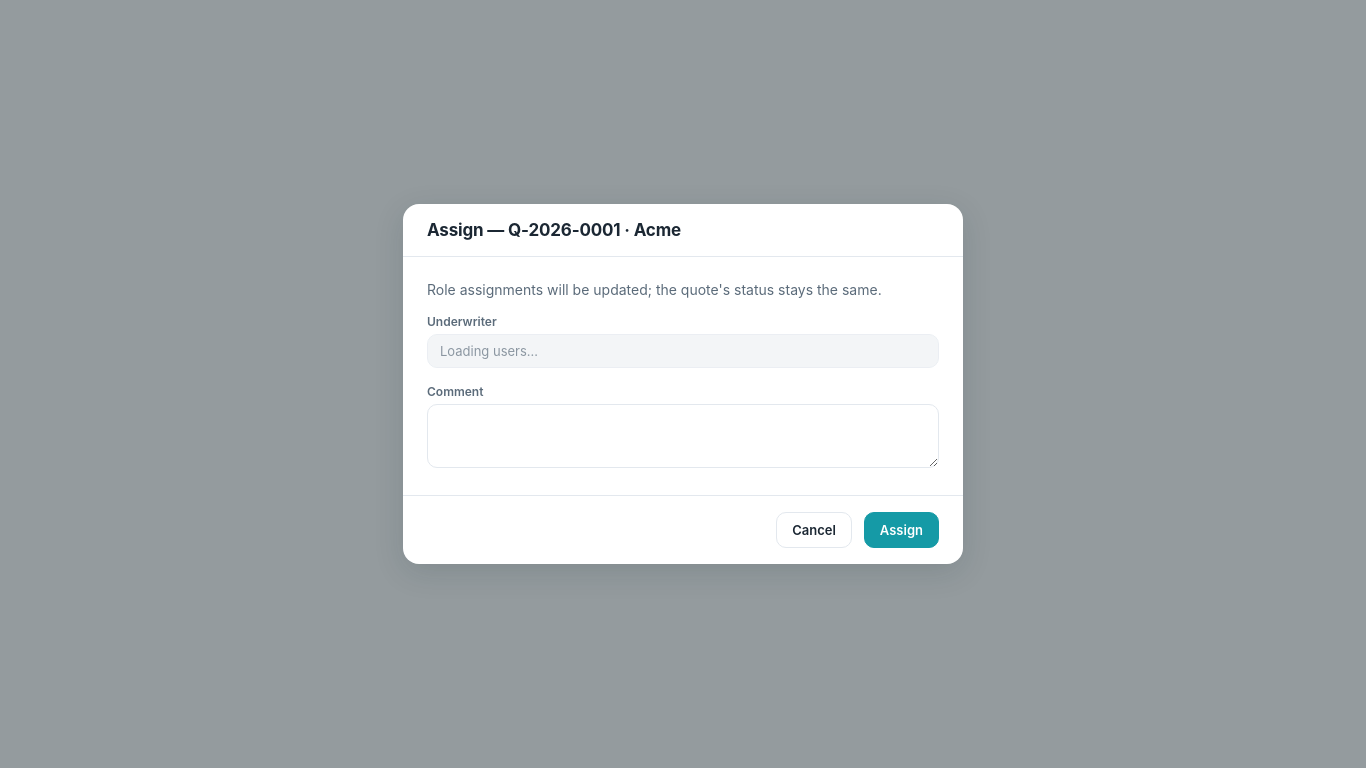
QuoteAssignDialog › click_WhenConfirmedWithoutAnySelection_ShouldShowInlineErrorAndNotConfirm
Click the button with test id "dialog-primary-button" at coordinates (901, 530), box [864,512,939,548]
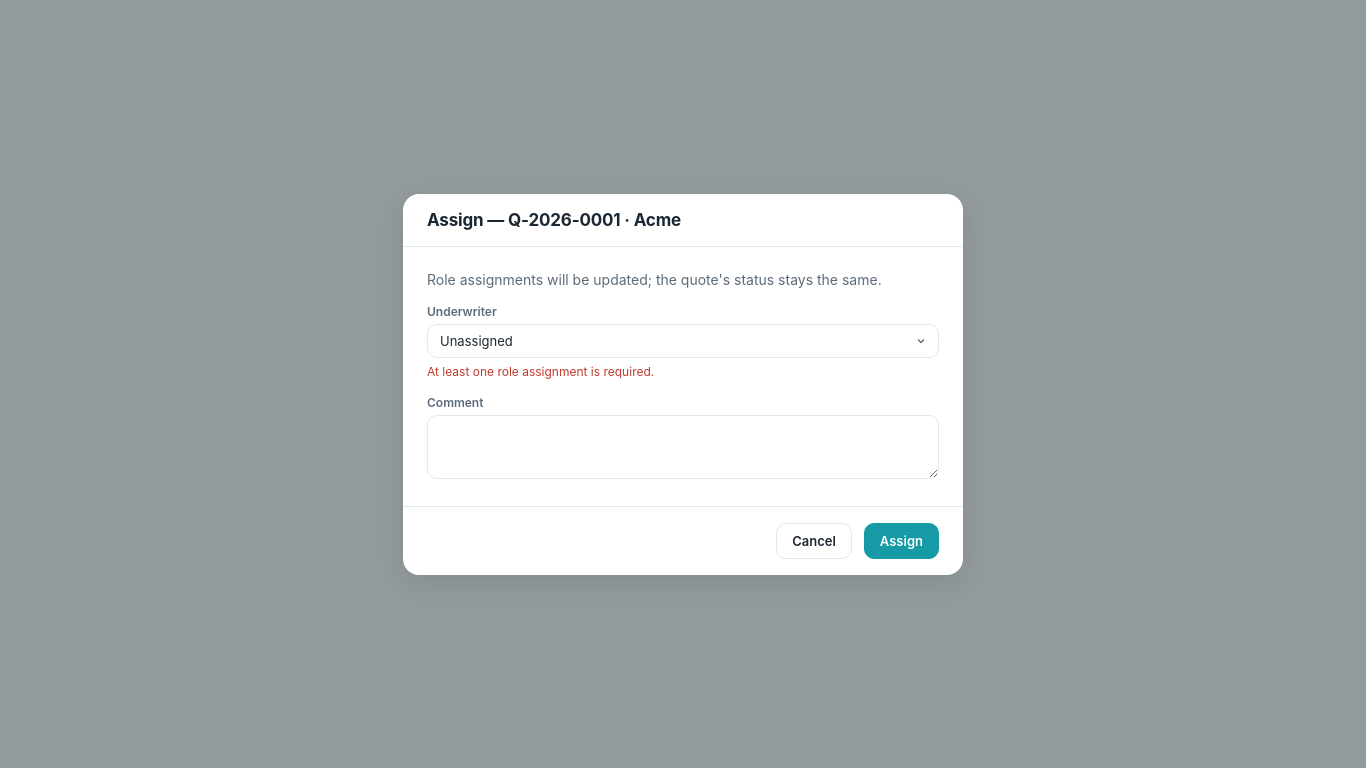
Expected: the message with test id "field-error-assignments" reads "At least one role assignment is required.", [427,364,654,378]
